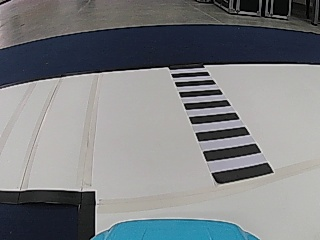CrossWalk: (170, 69, 272, 180)
